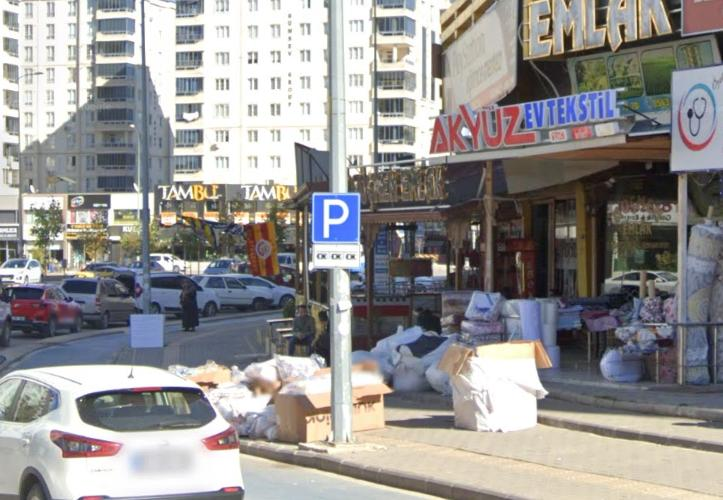park: (316, 193, 359, 243)
